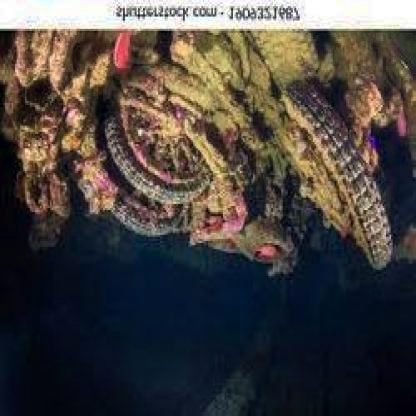tire: (266, 62, 396, 280), (78, 95, 225, 202), (66, 159, 194, 243)
